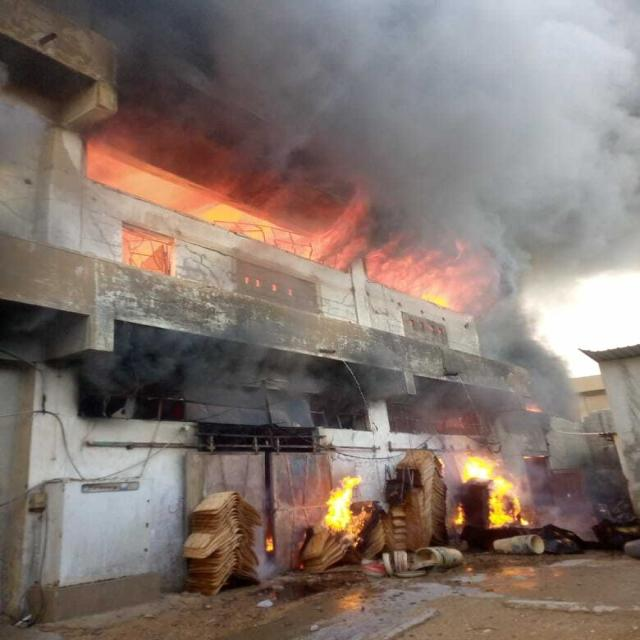fire: (454, 454, 531, 534), (320, 470, 369, 539)
smoke: (331, 4, 639, 198)
